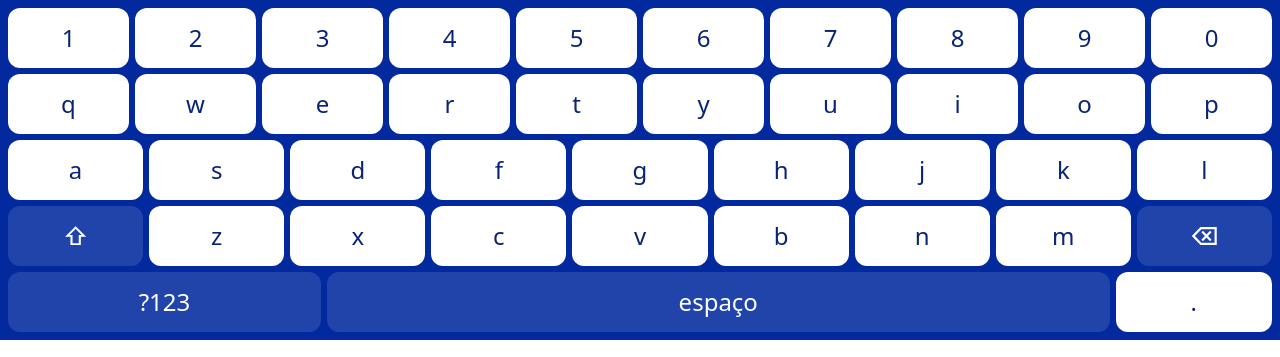
Test: VirtualKeyboard — long-press e popup de variantes (Cenários 3/4/6) › hold de 350ms abre o popup de variantes da vogal
Press the mouse on the button "a" at (76,170), box [8,140,143,200]
Wait 350 ms
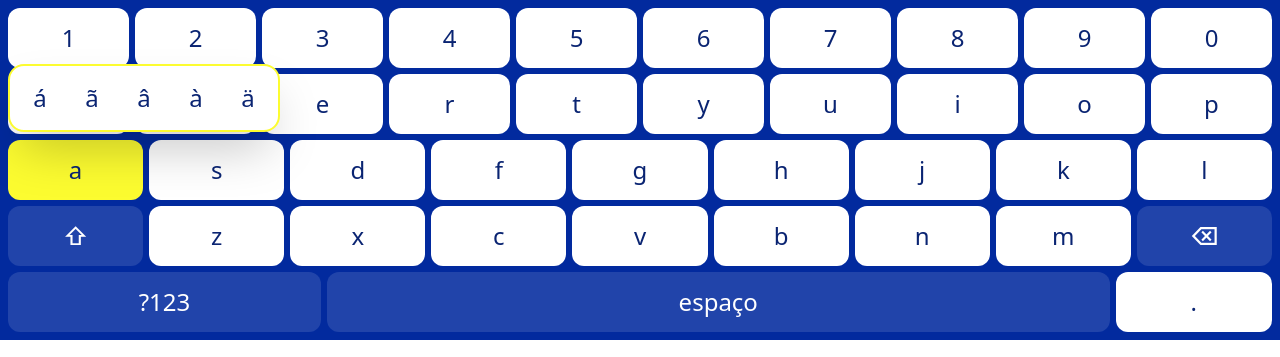
expect the element named "Variantes de a" is shown: met, box [8,64,280,132]
